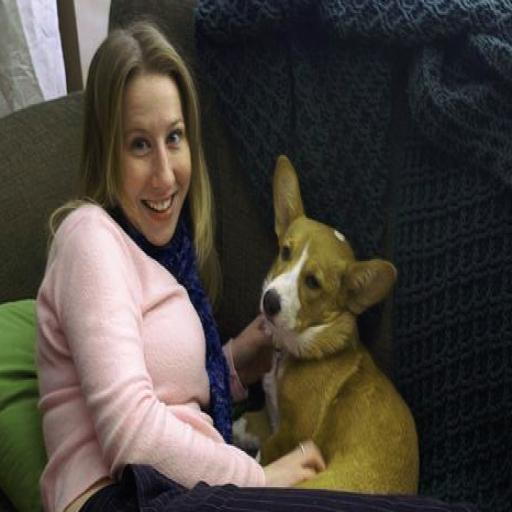dog_face: (259, 162, 389, 337)
